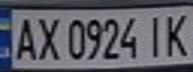0: (63, 15, 84, 61)
2: (100, 15, 124, 61)
4: (118, 14, 142, 61)
9: (81, 15, 106, 61)
A: (9, 14, 39, 62)
I: (142, 11, 169, 60)
K: (160, 9, 193, 58)
X: (33, 12, 63, 62)
